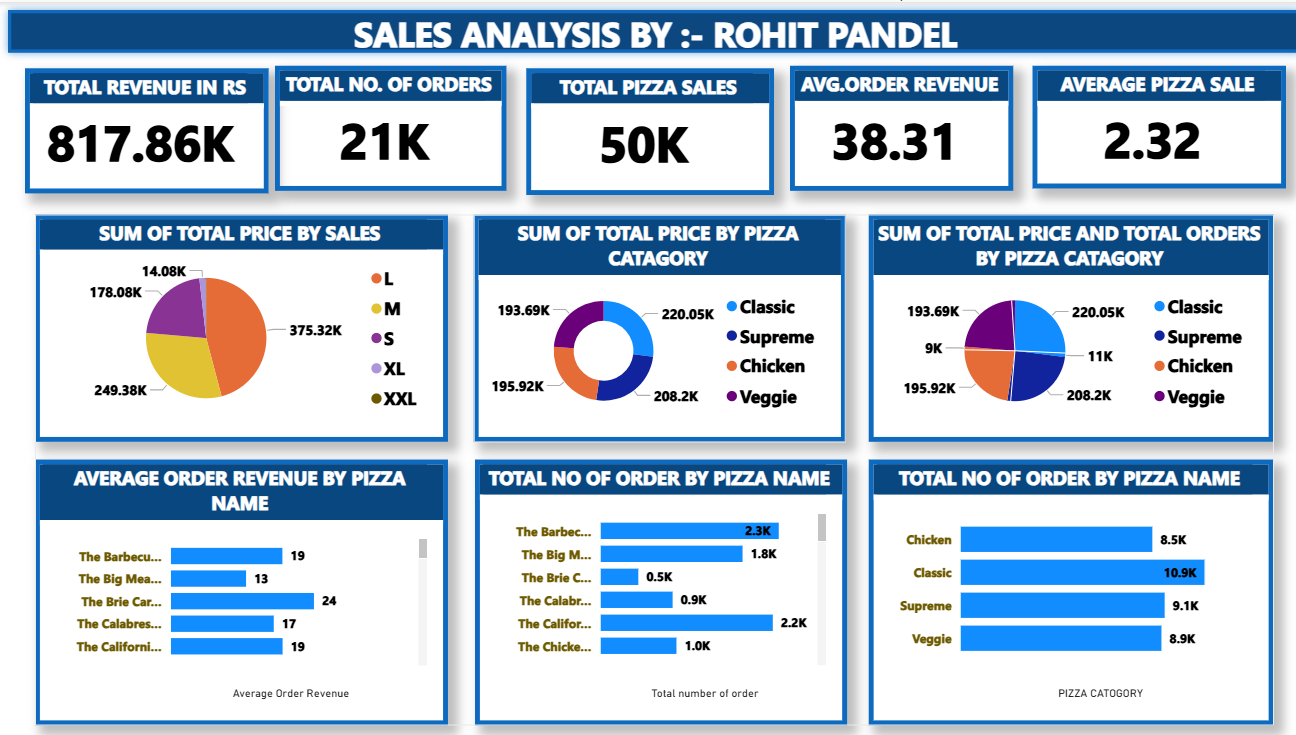

The dashboard page shown, as its layout file describes it:
{"tool":"powerbi","page":{"name":"M2","canvas":[1280,720],"ordinal":0},"visuals":[{"type":"card","title":"TOTAL REVENUE IN RS ","fields":{"Values":["pizza_sales.Total Review AA"]},"box":[24,64,238,122],"z":0,"group":"g1"},{"type":"donutChart","title":"SUM OF TOTAL PRICE BY PIZZA CATAGORY ","fields":{"Category":["pizza_sales.pizza_category"],"Y":["Sum(pizza_sales.total_price)"]},"box":[464,208,364,222],"z":0},{"type":"card","title":"TOTAL NO. OF ORDERS ","fields":{"Values":["pizza_sales.Totalorder"]},"box":[269,62,226,122],"z":1000,"group":"g1"},{"type":"pieChart","title":"SUM OF TOTAL PRICE BY SALES ","fields":{"Category":["pizza_sales.pizza_size"],"Y":["Sum(pizza_sales.total_price)"]},"box":[34,208,404,222],"z":1000},{"type":"group","id":"g1","title":"Group 1","box":[24,62,1233,126],"z":2000},{"type":"group","id":"g2","title":"Group 2","box":[34,208,1212,500],"z":3000},{"type":"pieChart","title":"SUM OF TOTAL PRICE AND TOTAL ORDERS BY PIZZA CATAGORY ","fields":{"Y":["Sum(pizza_sales.total_price)","pizza_sales.Totalorder"],"Category":["pizza_sales.pizza_category"]},"box":[850,208,396,222],"z":3000,"group":"g2"},{"type":"shape","box":[0,0,1280.3,57.4],"z":4000},{"type":"card","title":"TOTAL PIZZA SALES","fields":{"Values":["pizza_sales.Total pizza sale"]},"box":[514,64,242,124],"z":4000,"group":"g1"},{"type":"card","title":"AVERAGE PIZZA SALE ","fields":{"Values":["pizza_sales.Average pizza sale"]},"box":[1009,62,248,120],"z":6000,"group":"g1"},{"type":"card","title":"AVG.ORDER REVENUE ","fields":{"Values":["pizza_sales.Average Order Revenue"]},"box":[772,62,218,122],"z":7000,"group":"g1"},{"type":"clusteredBarChart","title":"AVERAGE ORDER REVENUE BY PIZZA NAME  ","fields":{"Y":["pizza_sales.Average Order Revenue"],"Category":["pizza_sales.pizza_name"]},"box":[34,448,404,260],"z":8000,"group":"g2"},{"type":"clusteredBarChart","title":"TOTAL NO OF ORDER  BY PIZZA NAME ","fields":{"Category":["pizza_sales.pizza_name"],"Y":["pizza_sales.Total number of order"]},"box":[464,448,364,260],"z":9000,"group":"g2"},{"type":"clusteredBarChart","title":"TOTAL NO OF ORDER BY PIZZA NAME ","fields":{"Category":["pizza_sales.pizza_category"],"Y":["pizza_sales.Total number of order"]},"box":[850,448,396,260],"z":10000,"group":"g2"}]}

Visuals, with their boxes in screenshot pixels (x1, y1, x2, y2), scaled from the page's 1280x720 canvas onto the 1296x735 screenshot:
"TOTAL REVENUE IN RS " card: {"left": 24, "top": 65, "right": 265, "bottom": 190}
"SUM OF TOTAL PRICE BY PIZZA CATAGORY " donutChart: {"left": 470, "top": 212, "right": 838, "bottom": 439}
"TOTAL NO. OF ORDERS " card: {"left": 272, "top": 63, "right": 501, "bottom": 188}
"SUM OF TOTAL PRICE BY SALES " pieChart: {"left": 34, "top": 212, "right": 443, "bottom": 439}
"Group 1" group: {"left": 24, "top": 63, "right": 1273, "bottom": 192}
"Group 2" group: {"left": 34, "top": 212, "right": 1262, "bottom": 723}
"SUM OF TOTAL PRICE AND TOTAL ORDERS BY PIZZA CATAGORY " pieChart: {"left": 861, "top": 212, "right": 1262, "bottom": 439}
shape: {"left": 0, "top": 0, "right": 1295, "bottom": 59}
"TOTAL PIZZA SALES" card: {"left": 520, "top": 65, "right": 765, "bottom": 192}
"AVERAGE PIZZA SALE " card: {"left": 1022, "top": 63, "right": 1273, "bottom": 186}
"AVG.ORDER REVENUE " card: {"left": 782, "top": 63, "right": 1002, "bottom": 188}
"AVERAGE ORDER REVENUE BY PIZZA NAME  " clusteredBarChart: {"left": 34, "top": 457, "right": 443, "bottom": 723}
"TOTAL NO OF ORDER  BY PIZZA NAME " clusteredBarChart: {"left": 470, "top": 457, "right": 838, "bottom": 723}
"TOTAL NO OF ORDER BY PIZZA NAME " clusteredBarChart: {"left": 861, "top": 457, "right": 1262, "bottom": 723}
